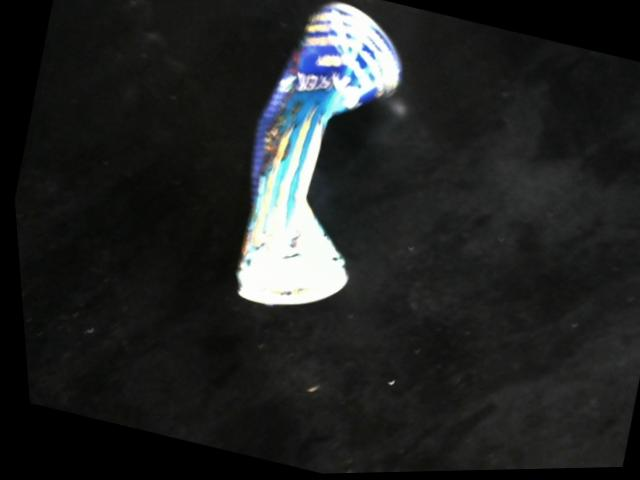can: (230, 0, 401, 308)
